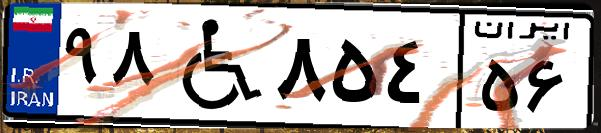4: (385, 28, 445, 110)
5: (330, 28, 385, 110), (475, 38, 525, 113)
6: (525, 38, 570, 115)
8: (270, 28, 330, 110), (110, 28, 158, 98)
9: (57, 26, 110, 100)
ژ (معلولین و جانبازان): (158, 12, 270, 120)
